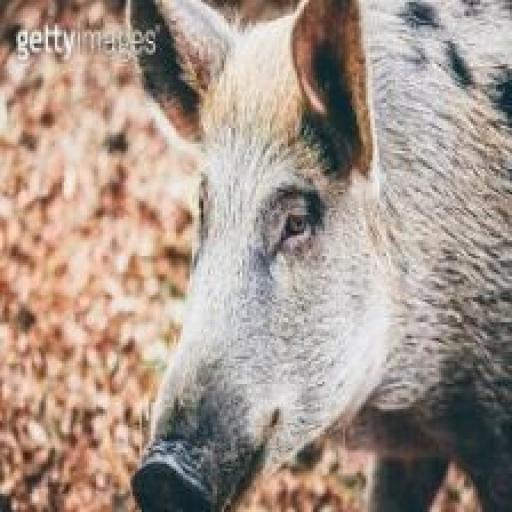Pig: (109, 0, 512, 512)
